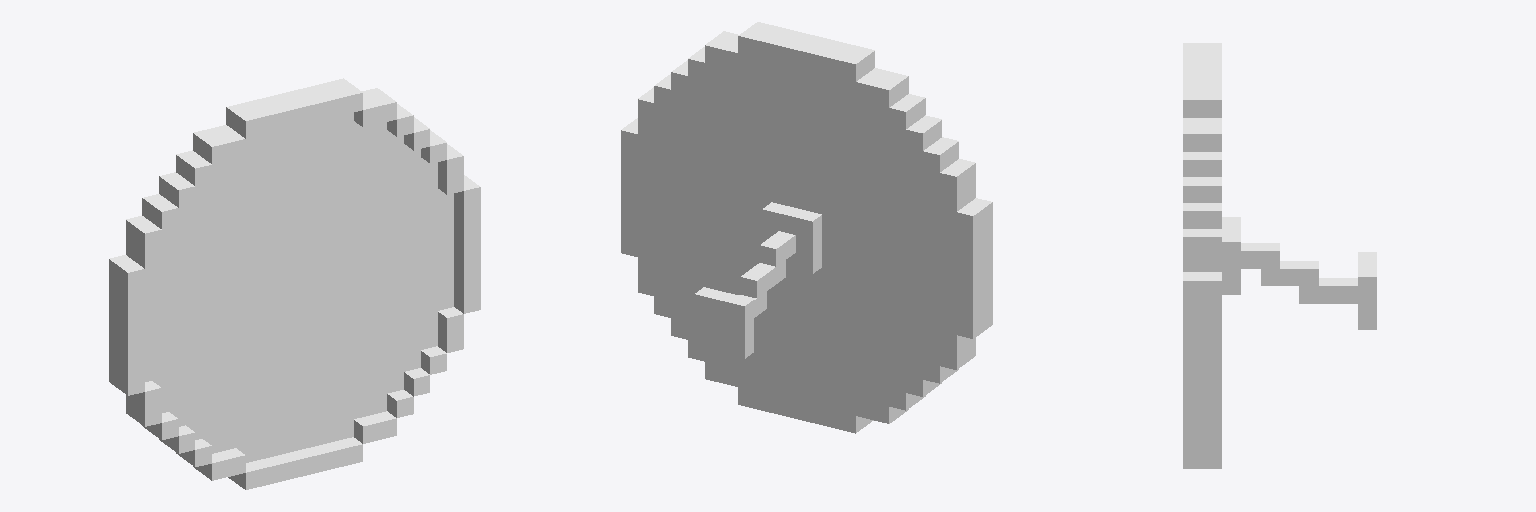
The model's file is satteliteDish-1-lod1.obj.
3 renders of one model, left to right at view 1: azimuth 30°, elevation 25°; view 2: azimuth 150°, elevation 25°; view 3: azimuth 270°, elevation 25°, orthographic.
Parts seen in each view (by area): view 1: lod1; view 2: lod1; view 3: lod1.
Boxes of the visible parts, box(x1,y1,x2,y2) form: lod1: box(109, 78, 480, 489); lod1: box(621, 22, 992, 433); lod1: box(1183, 43, 1376, 468).
Bounding box in the file's own units: 8.4 × 8.4 × 4.